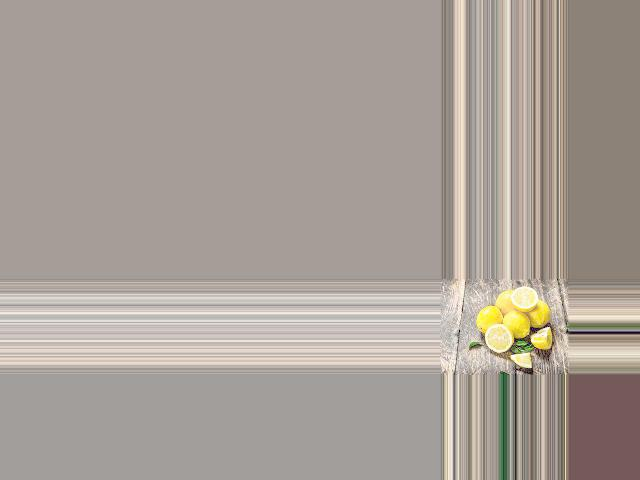lemon: (525, 302, 551, 330)
